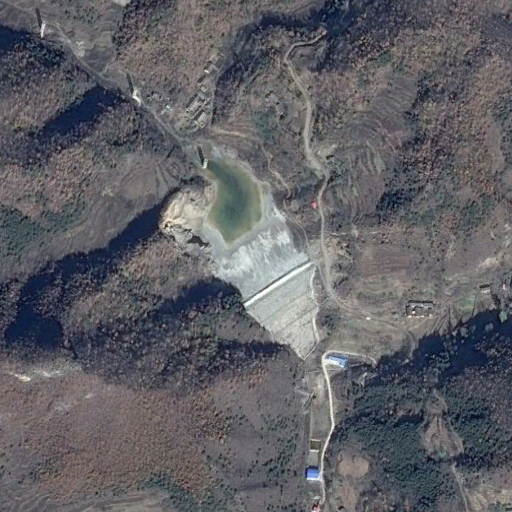tp: (203, 151, 320, 356)
